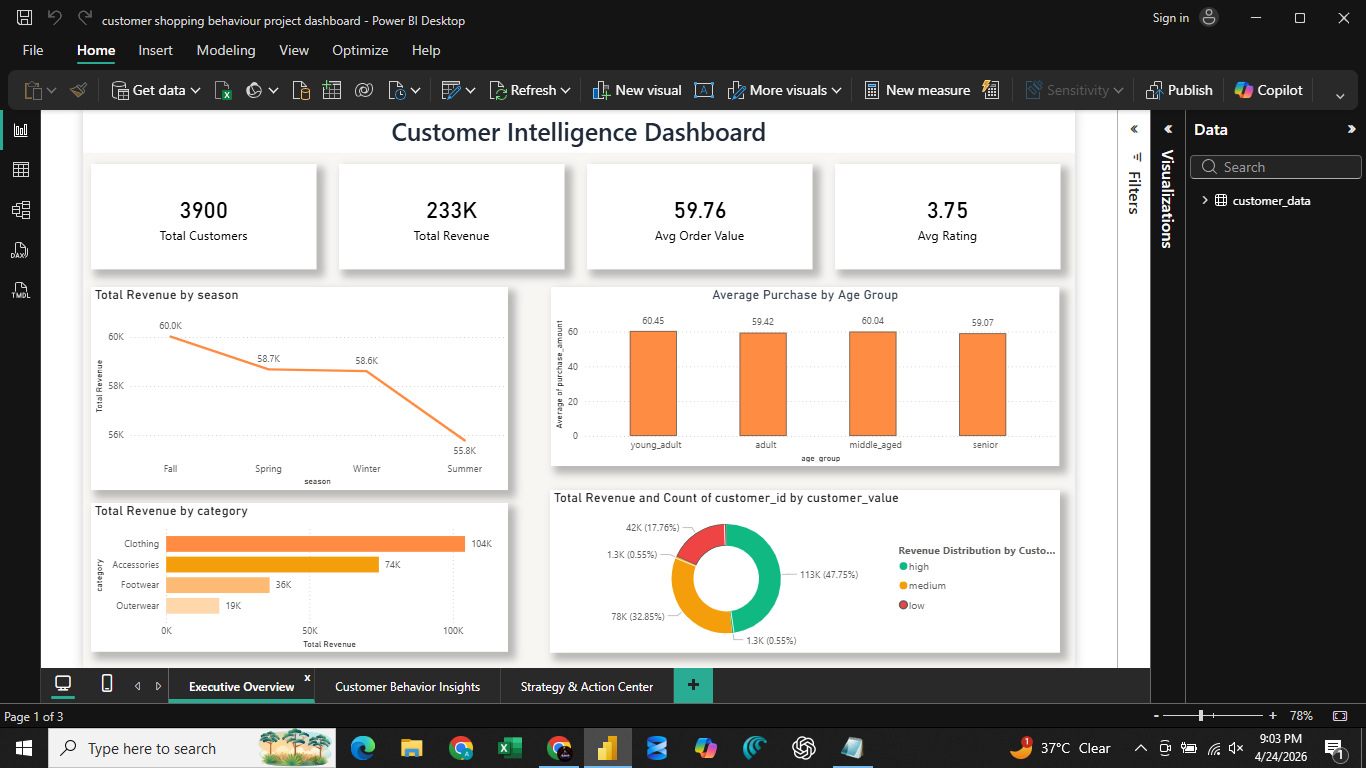

What the dashboard file says about the page in this screenshot:
{"tool":"powerbi","page":{"name":"Executive Overview","canvas":[1280,720],"ordinal":0},"visuals":[{"type":"card","fields":{"Values":["customer_data.Total Customers"]},"box":[10.1,69.4,290.6,135.9],"z":0},{"type":"card","fields":{"Values":["customer_data.Total Revenue"]},"box":[330.1,69.4,290.6,135.9],"z":1000},{"type":"card","fields":{"Values":["customer_data.Avg Order Value"]},"box":[650.1,69.4,290.6,135.9],"z":2000},{"type":"card","fields":{"Values":["customer_data.Avg Rating"]},"box":[970.1,69.4,290.6,135.9],"z":3000},{"type":"lineChart","fields":{"Category":["customer_data.season"],"Y":["customer_data.Total Revenue"]},"box":[10.1,228.4,537.8,261.7],"z":4000},{"type":"clusteredBarChart","fields":{"Category":["customer_data.category"],"Y":["customer_data.Total Revenue"]},"box":[10.1,507.5,537.8,192.3],"z":5000},{"type":"textbox","box":[0,0,1279.5,54.9],"z":6000},{"type":"donutChart","fields":{"Category":["customer_data.customer_value"],"Y":["customer_data.Total Revenue","CountNonNull(customer_data.customer_id)"]},"box":[602.9,490.1,657.8,209.6],"z":7000},{"type":"clusteredColumnChart","title":"Average Purchase by Age Group","fields":{"Category":["customer_data.age_group"],"Y":["Avg(customer_data.purchase_amount)"]},"box":[604.3,228.4,656.4,231.3],"z":8000}]}

Visuals, with their boxes on the page's 1280x720 design canvas (x1, y1, x2, y2). These are canvas units, not pixel positions in the 1366x768 screenshot, which may show the page scaled, cropped or inside an application window:
card - customer_data.Total Customers: <region>10, 69, 301, 205</region>
card - customer_data.Total Revenue: <region>330, 69, 621, 205</region>
card - customer_data.Avg Order Value: <region>650, 69, 941, 205</region>
card - customer_data.Avg Rating: <region>970, 69, 1261, 205</region>
lineChart - customer_data.season x customer_data.Total Revenue: <region>10, 228, 548, 490</region>
clusteredBarChart - customer_data.category x customer_data.Total Revenue: <region>10, 508, 548, 700</region>
textbox: <region>0, 0, 1280, 55</region>
donutChart - customer_data.customer_value x customer_data.Total Revenue: <region>603, 490, 1261, 700</region>
"Average Purchase by Age Group" clusteredColumnChart: <region>604, 228, 1261, 460</region>
